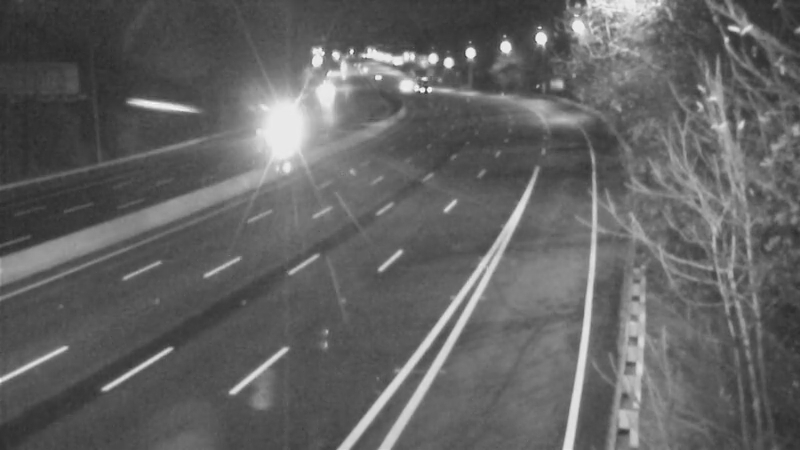vehicle: (380, 60, 430, 110), (397, 61, 447, 111), (269, 102, 319, 152), (301, 68, 351, 118)
